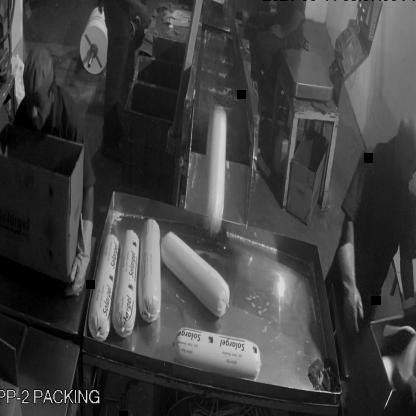no_glove: (391, 296, 416, 398), (104, 0, 157, 34), (270, 7, 309, 48)
